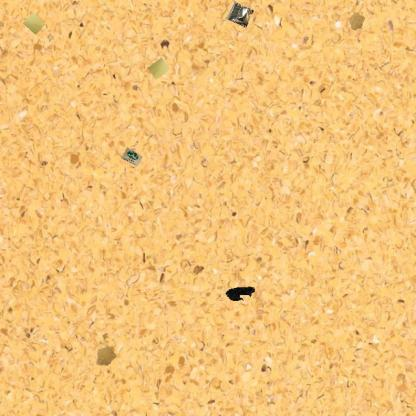dirty: (224, 0, 255, 29), (20, 10, 48, 36), (146, 55, 172, 82), (224, 284, 256, 304), (120, 146, 144, 168)
liquid: (95, 340, 118, 367), (346, 9, 366, 31)
